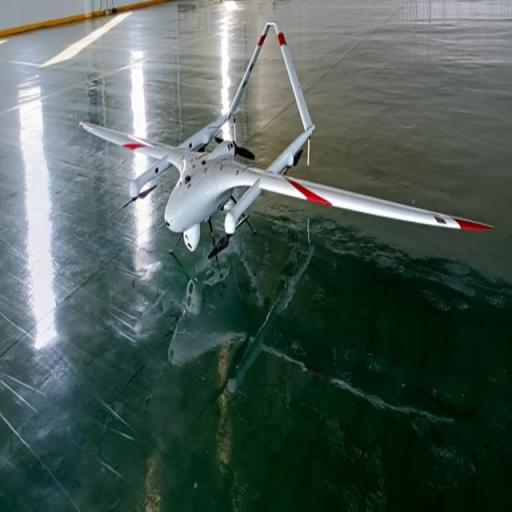uav: (76, 22, 498, 288)
